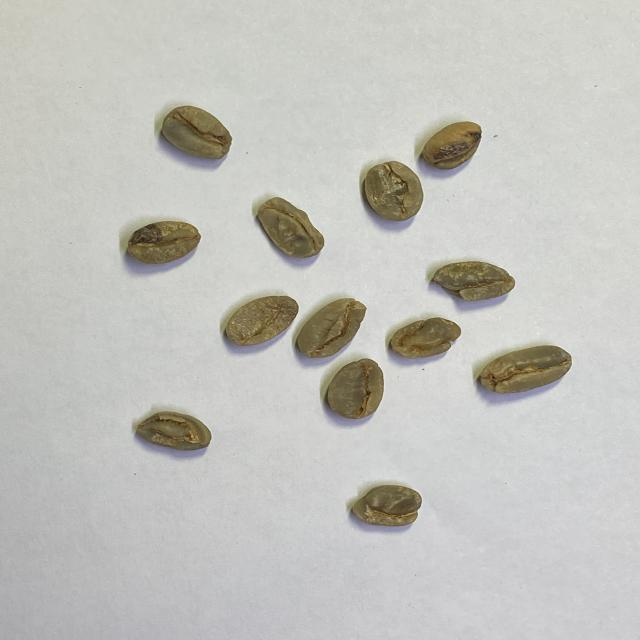bad: (478, 344, 573, 394), (256, 195, 326, 260), (296, 296, 367, 359), (161, 104, 233, 162), (224, 294, 300, 348), (362, 160, 425, 222), (325, 358, 386, 422), (430, 260, 516, 303), (125, 219, 202, 266), (133, 410, 213, 453), (350, 483, 422, 530), (389, 316, 463, 360), (420, 120, 482, 171)
